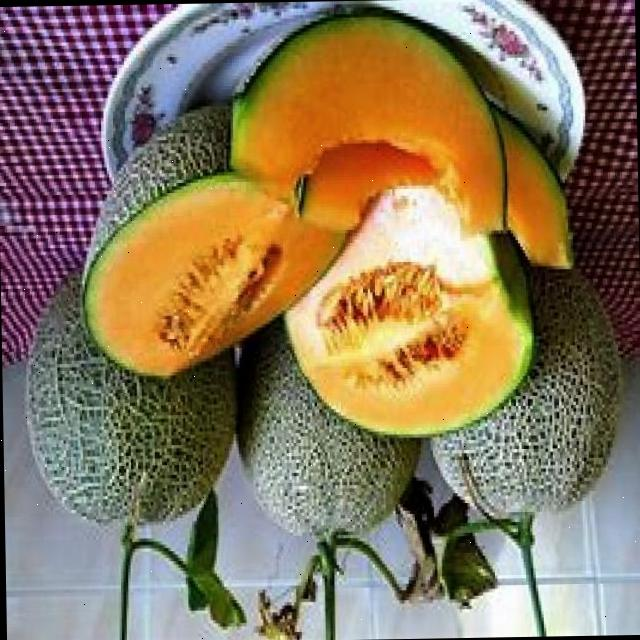Hami Melon: (79, 98, 347, 377), (282, 188, 531, 438), (23, 263, 236, 528), (429, 257, 624, 522), (238, 318, 422, 542)
